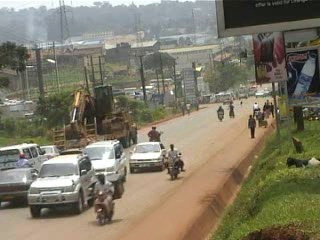Car: (27, 153, 96, 215), (76, 135, 129, 188), (0, 164, 40, 205), (128, 138, 167, 174), (34, 143, 61, 160), (254, 88, 265, 99)
Motorcycle: (85, 172, 117, 227), (161, 142, 187, 180), (147, 124, 164, 144), (15, 152, 32, 168), (216, 102, 227, 123)
